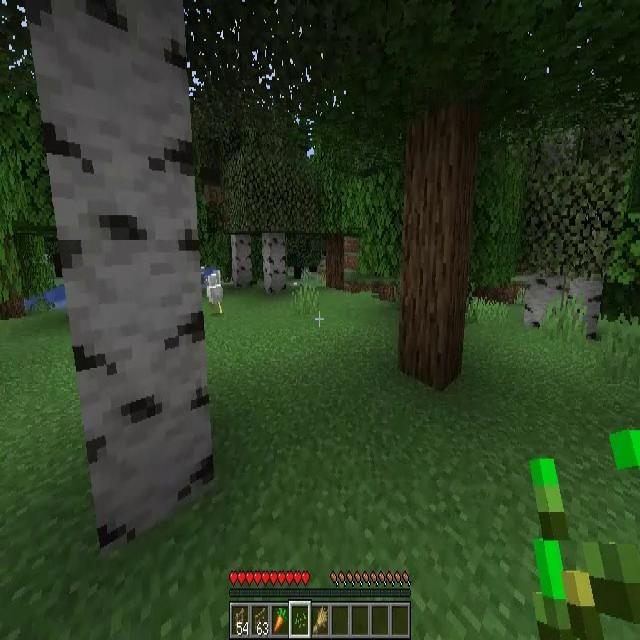duck: (207, 274, 223, 316)
